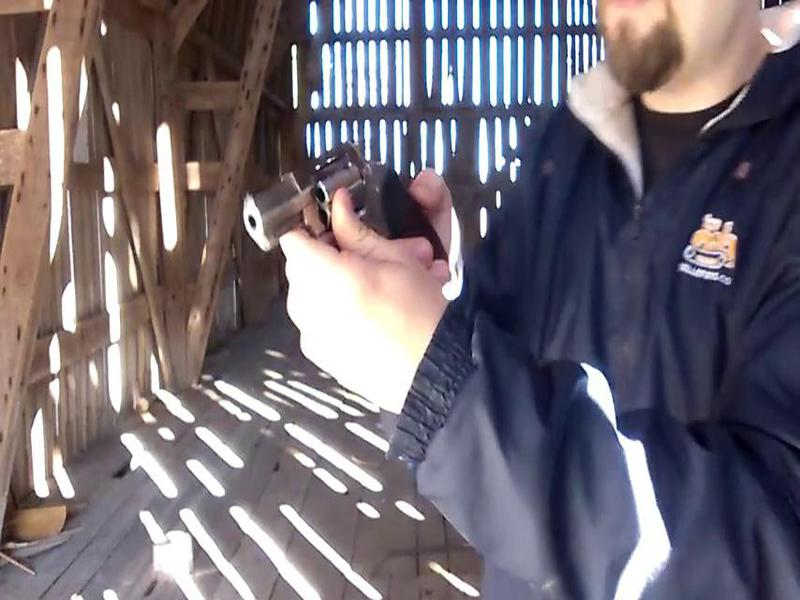Revolver: (224, 134, 427, 255)
